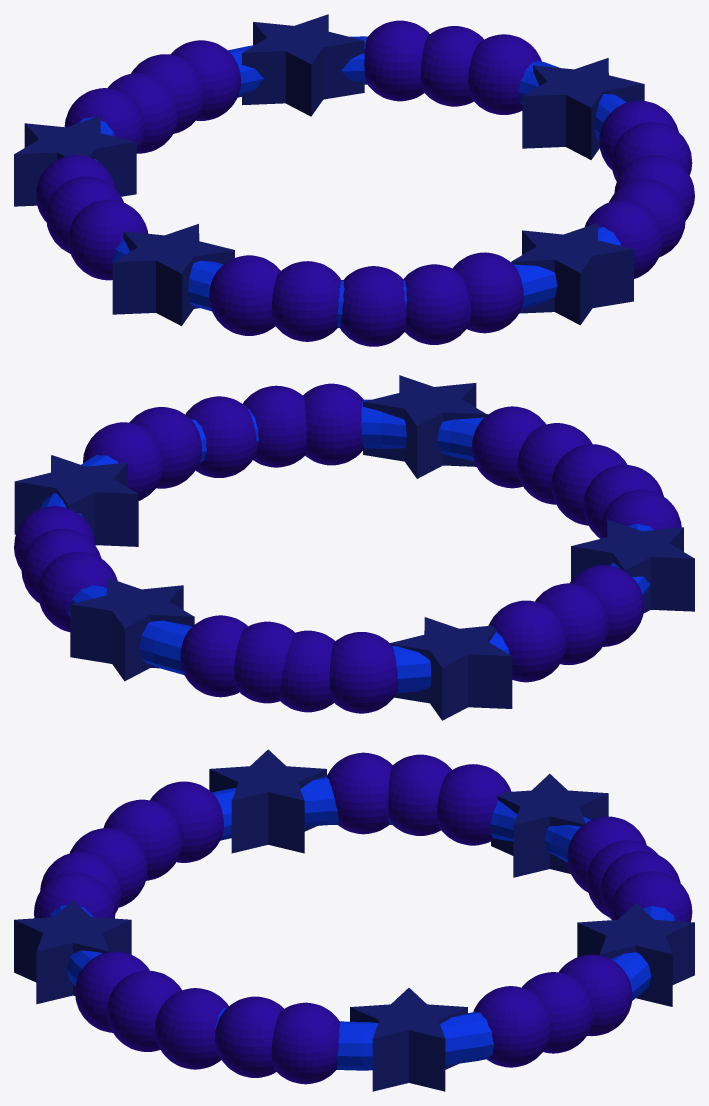
Rendered from Midnights.fbx.
3 renders of one model, top to bottom at view 1: azimuth 30°, elevation 25°; view 2: azimuth 150°, elevation 25°; view 3: azimuth 270°, elevation 25°, orthographic.
Parts seen in each view (by area): view 1: Torus.040; view 2: Torus.040; view 3: Torus.040.
Boxes of the visible parts, box(x1,y1,x2,y2) form: Torus.040: box(14, 14, 694, 346); Torus.040: box(14, 375, 694, 720); Torus.040: box(14, 749, 694, 1091).
Size of the model in its own units: 117 by 15.79 by 117.
